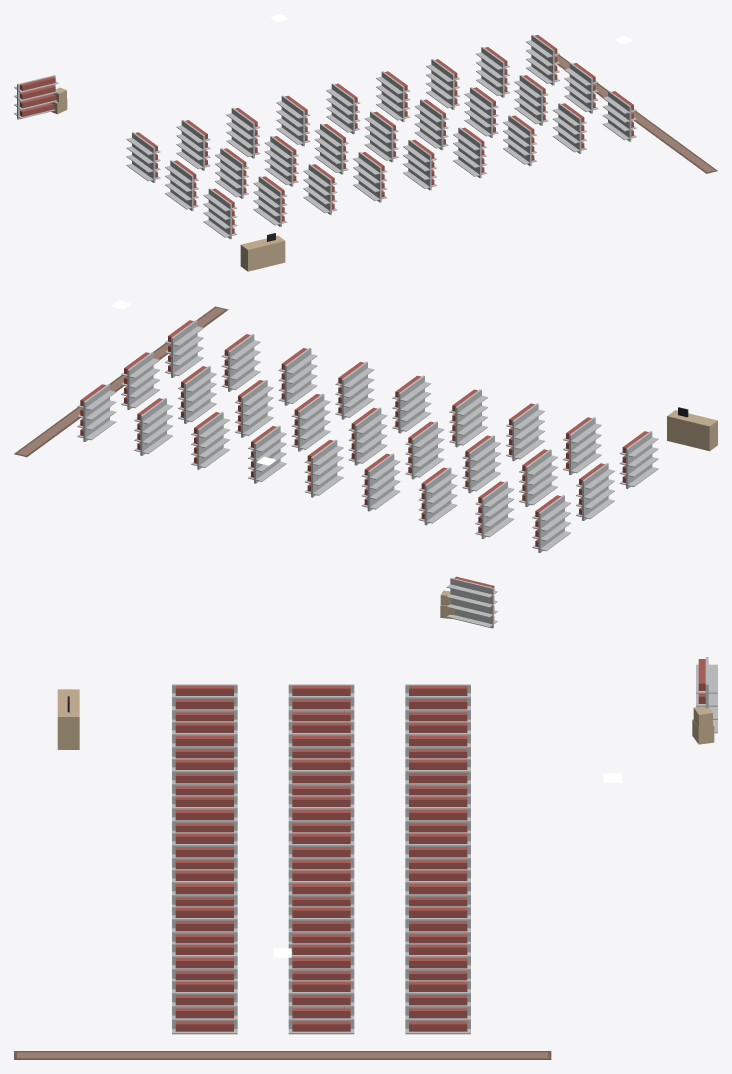
Rendered from fine-s0.glb.
The picture shows the model from 3 angles, top to bottom: view 1: azimuth 30°, elevation 25°; view 2: azimuth 150°, elevation 25°; view 3: azimuth 270°, elevation 25°; orthographic projection. The views are drawn at different scales.
Parts seen in each view (by area): view 1: shelving.000, shop-counter.000, soft-s0, shelf.009, shelf.003, shelf.012, shelf.023, shelf.002, shelf.017, shelf.001, shelf.006, shelf.007 (+18 smaller); view 2: shelving.000, shop-counter.000, shelf.006, shelf.002, shelf.009, shelf.013, shelf.023, shelf.020, shelf.012, shelf.016, shelf.010, shelf.017 (+18 smaller); view 3: soft-s0, shelf.025, shelf.024, shelf.026, shelf.001, shelf.004, shelf.007, shelf.010, shelf.013, shelf.016, shelf.019, shelf.022 (+19 smaller).
Part boxes in pixels (x1,y1,x2,y2): shelving.000: [14, 75, 58, 119]; shop-counter.000: [240, 233, 285, 271]; soft-s0: [555, 55, 717, 173]; shelf.009: [276, 95, 310, 146]; shelf.003: [176, 120, 210, 170]; shelf.012: [326, 83, 360, 134]; shelf.023: [552, 103, 586, 153]; shelf.002: [203, 188, 237, 239]; shelf.017: [453, 127, 486, 178]; shelf.001: [165, 160, 198, 210]; shelf.006: [226, 107, 260, 158]; shelf.007: [264, 136, 298, 186]; shelving.000: [446, 576, 497, 628]; shop-counter.000: [667, 407, 717, 451]; shelf.006: [418, 467, 457, 525]; shelf.002: [619, 431, 658, 488]; shelf.009: [361, 453, 400, 511]; shelf.013: [348, 407, 387, 465]; shelf.023: [221, 334, 260, 391]; shelf.020: [278, 347, 317, 405]; shelf.012: [304, 439, 343, 497]; shelf.016: [291, 393, 330, 451]; shelf.010: [405, 421, 444, 479]; shelf.017: [335, 361, 374, 419]; soft-s0: [14, 1051, 551, 1059]; shelf.025: [288, 980, 354, 1034]; shelf.024: [405, 980, 470, 1034]; shelf.026: [172, 980, 237, 1034]; shelf.001: [288, 684, 354, 721]; shelf.004: [288, 721, 354, 758]; shelf.007: [288, 758, 354, 795]; shelf.010: [288, 795, 354, 832]; shelf.013: [288, 832, 354, 869]; shelf.016: [288, 869, 354, 906]; shelf.019: [288, 906, 354, 943]; shelf.022: [288, 943, 354, 980].
Bounding box in the file's own units: 22.7 × 3.13 × 19.3.
